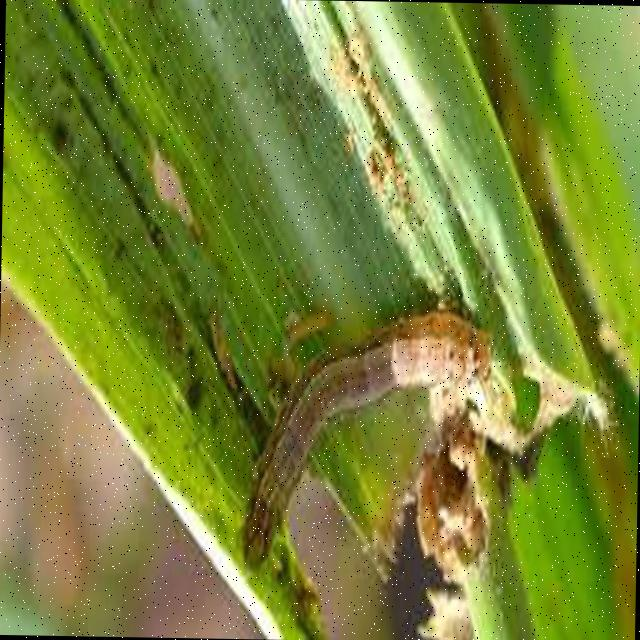worm: (236, 301, 500, 582)
